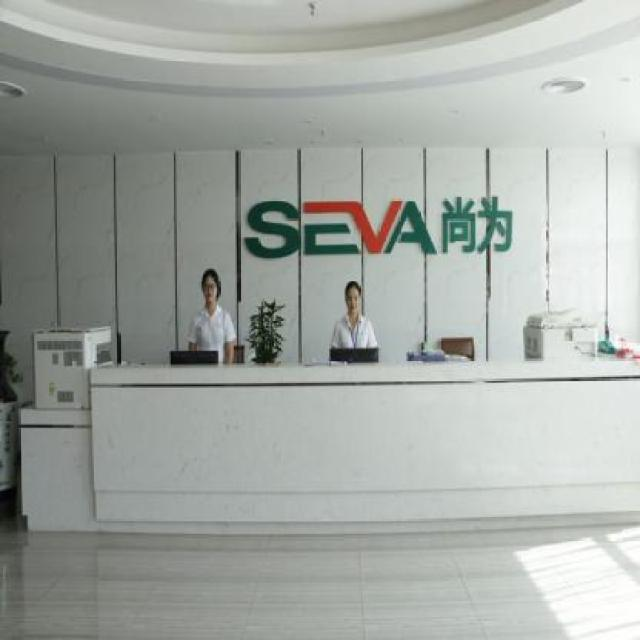frontdesk: (14, 342, 640, 546)
